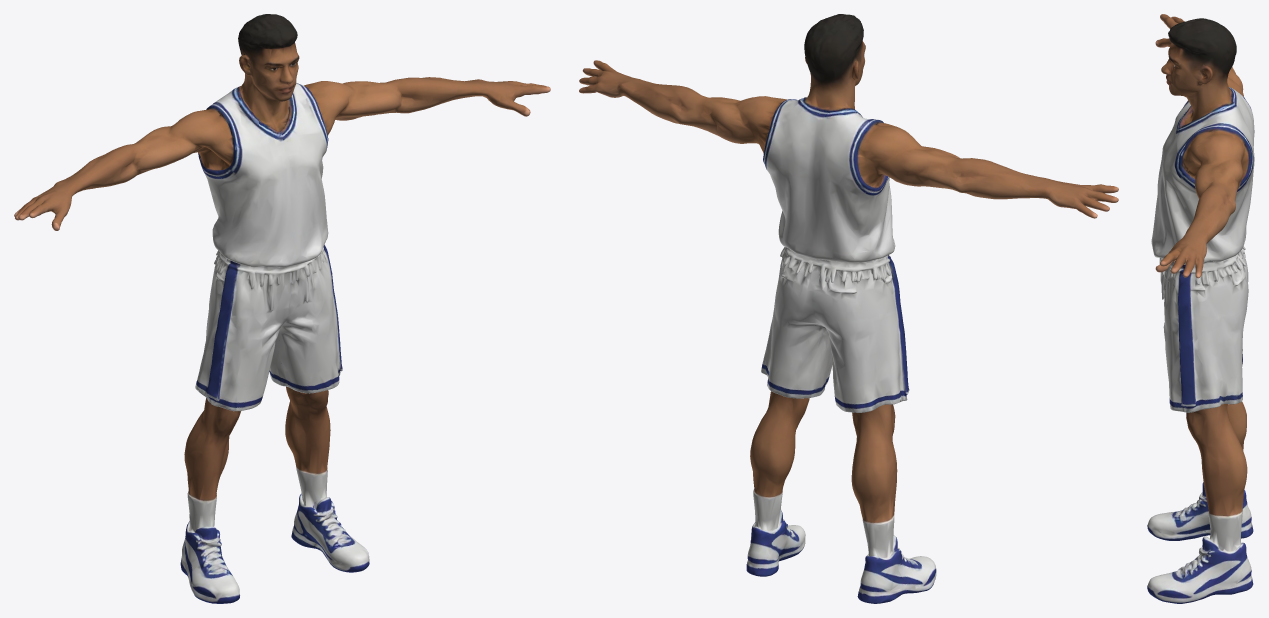
File: player.glb
The picture shows the model from 3 angles, left to right: view 1: azimuth 30°, elevation 25°; view 2: azimuth 150°, elevation 25°; view 3: azimuth 270°, elevation 25°; orthographic projection. The views are drawn at different scales.
Visible parts, largest first — view 1: tripo_node_f0b97efe-bd58-4bcc-9e30-66b8830a8861; view 2: tripo_node_f0b97efe-bd58-4bcc-9e30-66b8830a8861; view 3: tripo_node_f0b97efe-bd58-4bcc-9e30-66b8830a8861.
Boxes of the visible parts, x1,y1,x2,y2 form: tripo_node_f0b97efe-bd58-4bcc-9e30-66b8830a8861: [14, 14, 550, 603]; tripo_node_f0b97efe-bd58-4bcc-9e30-66b8830a8861: [579, 14, 1118, 603]; tripo_node_f0b97efe-bd58-4bcc-9e30-66b8830a8861: [1147, 14, 1254, 603].
Size of the model in its own units: 1.95 by 1.95 by 0.3472.
Materials: 1 (1 with a texture image).
